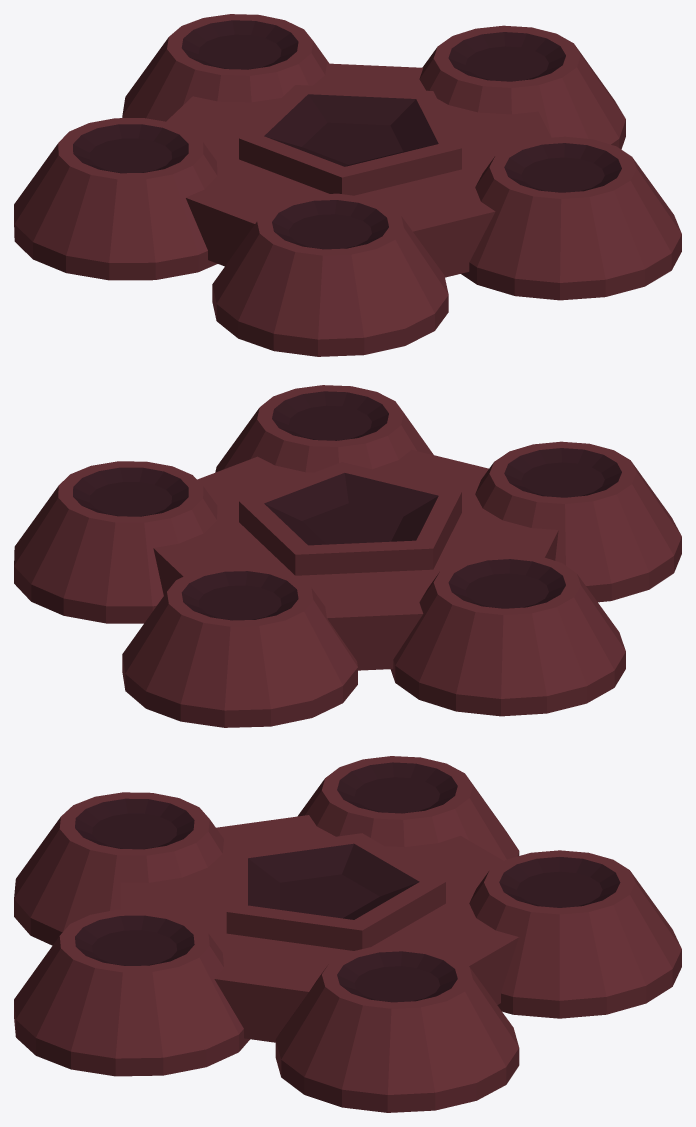
The model's file is preparation_circle.fbx.
3 renders of one model, top to bottom at view 1: azimuth 30°, elevation 25°; view 2: azimuth 150°, elevation 25°; view 3: azimuth 270°, elevation 25°, orthographic. The views are drawn at different scales.
Visible parts, largest first — view 1: Cylinder; view 2: Cylinder; view 3: Cylinder.
Boxes of the visible parts, <box> form: Cylinder: <box>14,14,681,356</box>; Cylinder: <box>14,385,681,727</box>; Cylinder: <box>14,756,681,1112</box>.
Size of the model in its own units: 1369 by 186 by 1324.
